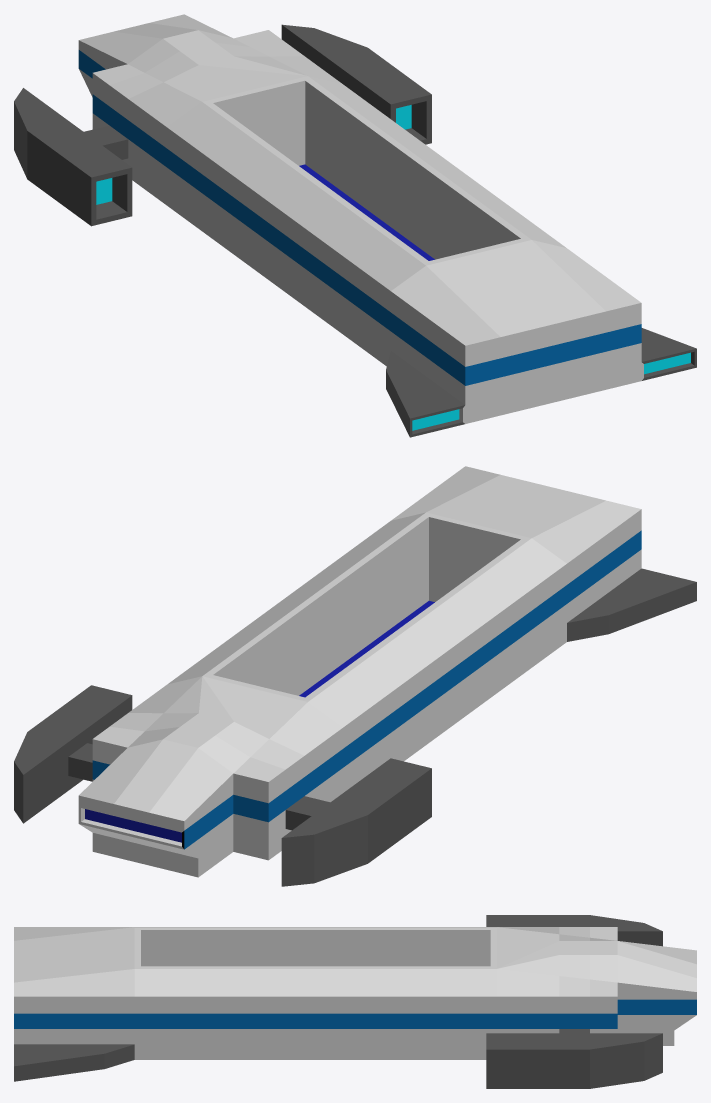
The model's file is Transport ship.FBX.
The picture shows the model from 3 angles, top to bottom: view 1: azimuth 30°, elevation 25°; view 2: azimuth 150°, elevation 25°; view 3: azimuth 270°, elevation 25°; orthographic projection. The views are drawn at different scales.
Parts seen in each view (by area): view 1: Box001; view 2: Box001; view 3: Box001.
Boxes of the visible parts, x1,y1,x2,y2 form: Box001: (14, 14, 696, 437); Box001: (14, 466, 696, 886); Box001: (14, 915, 696, 1088).
Bounding box in the file's own units: 11.6 × 3.1 × 24.9.
